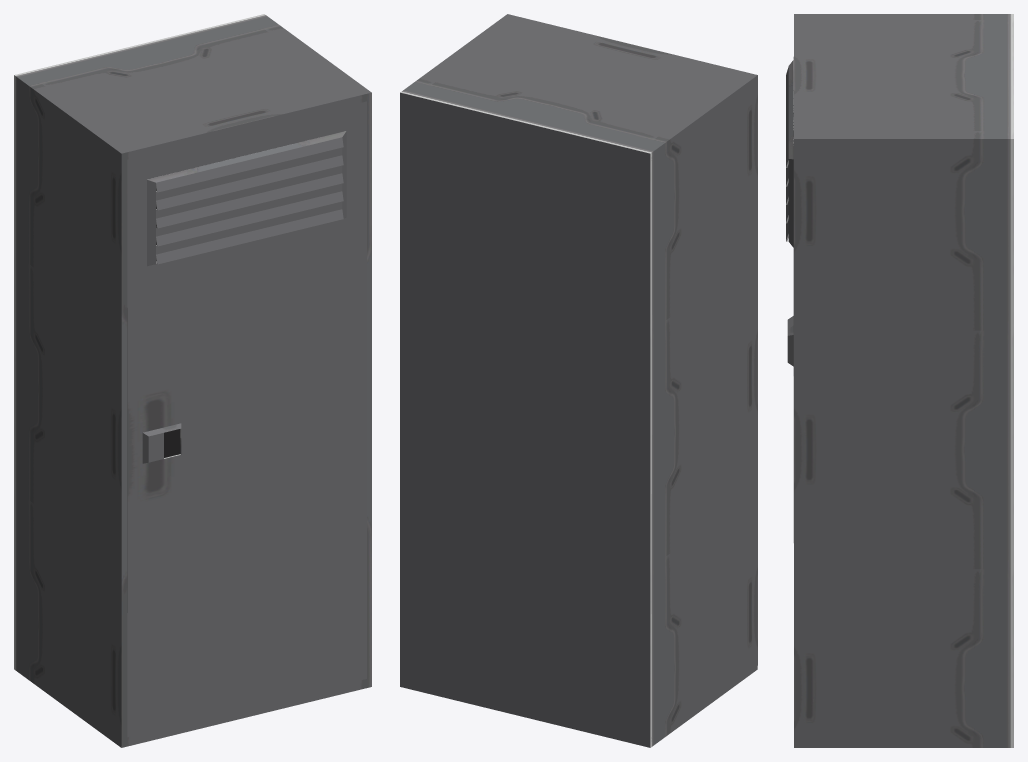
File: mdlArmoryLockerClosed.fbx
3 renders of one model, left to right at view 1: azimuth 30°, elevation 25°; view 2: azimuth 150°, elevation 25°; view 3: azimuth 270°, elevation 25°, orthographic. The views are drawn at different scales.
Parts seen in each view (by area): view 1: ArmoryLocker.001; view 2: ArmoryLocker.001; view 3: ArmoryLocker.001.
Boxes of the visible parts, bbox=[...] form: ArmoryLocker.001: bbox=[14, 14, 371, 747]; ArmoryLocker.001: bbox=[400, 14, 757, 747]; ArmoryLocker.001: bbox=[786, 14, 1013, 747].
Bounding box in the file's own units: 1.33 × 3.01 × 1.02.
1 material, 1 textured.
